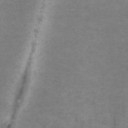finishing roll printing: (6, 41, 38, 126), (40, 0, 46, 13), (37, 16, 43, 23), (34, 30, 39, 37)
